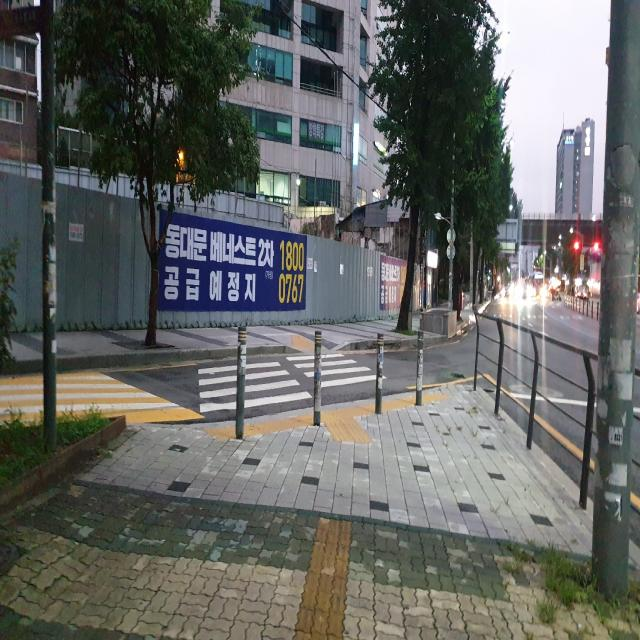횡단보도: (197, 352, 388, 414)
